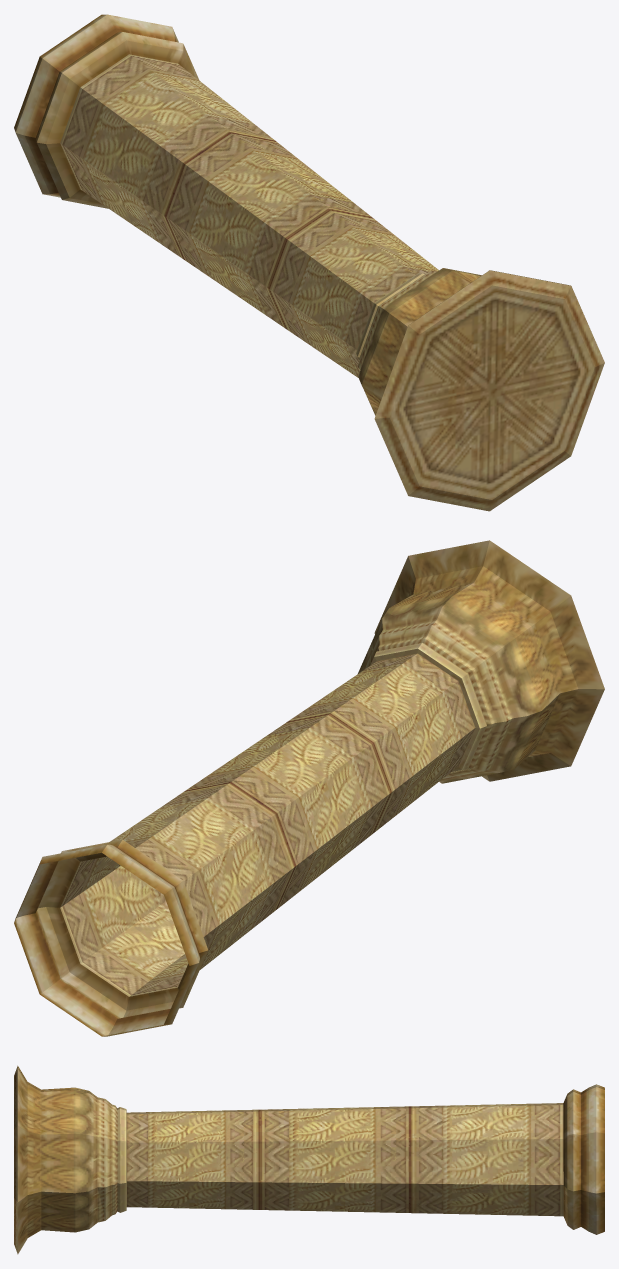
The model's file is beiou_yewai_29_zhuzi_01.obj.
3 views of the same model, one above another, from view 1: azimuth 30°, elevation 25°; view 2: azimuth 150°, elevation 25°; view 3: azimuth 270°, elevation 25° (orthographic). The views are drawn at different scales.
Visible parts, largest first — view 1: beiou_yewai_29_zhuzi_01; view 2: beiou_yewai_29_zhuzi_01; view 3: beiou_yewai_29_zhuzi_01.
Part boxes in pixels (left/top/right/bottom): beiou_yewai_29_zhuzi_01: left=14, top=14, right=604, bottom=511; beiou_yewai_29_zhuzi_01: left=14, top=540, right=604, bottom=1036; beiou_yewai_29_zhuzi_01: left=14, top=1065, right=604, bottom=1254.
Size of the model in its own units: 30.09 by 30.12 by 88.32.
1 material, 1 textured.
